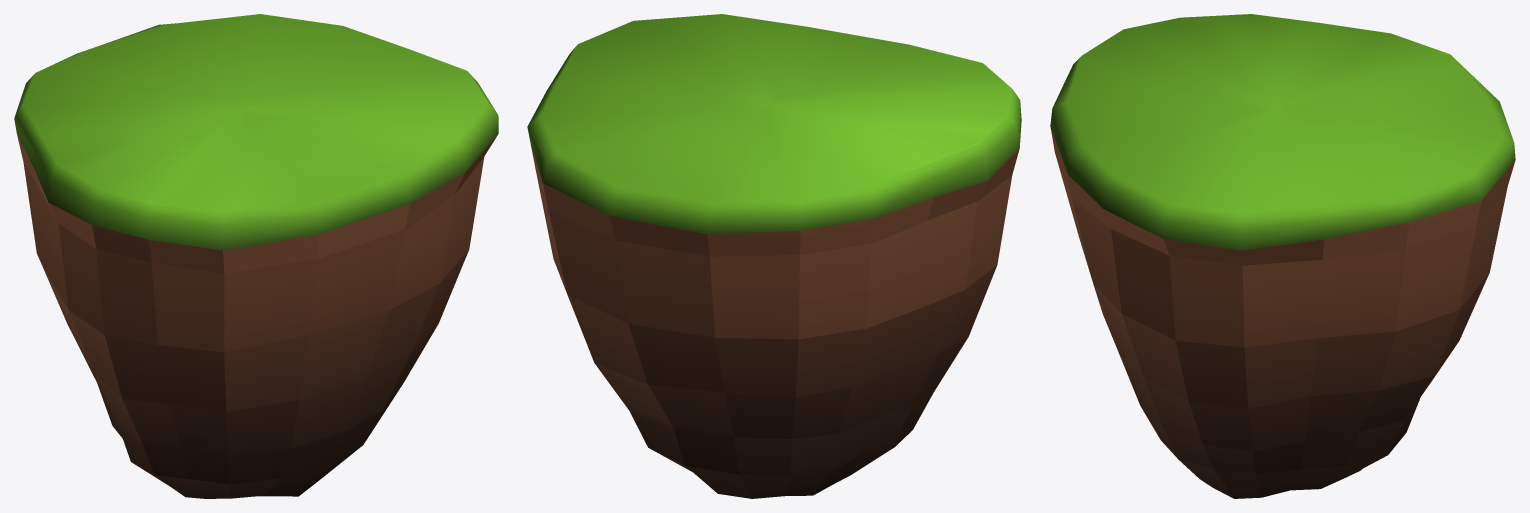
Rendered from Blank Island.fbx.
3 renders of one model, left to right at view 1: azimuth 30°, elevation 25°; view 2: azimuth 150°, elevation 25°; view 3: azimuth 270°, elevation 25°, orthographic.
Visible parts, largest first — view 1: Vert.001, Vert.002; view 2: Vert.001, Vert.002; view 3: Vert.002, Vert.001.
Part boxes in pixels (x1,y1,x2,y2): Vert.001: [17, 134, 497, 498]; Vert.002: [14, 14, 498, 250]; Vert.001: [530, 144, 1019, 498]; Vert.002: [527, 14, 1021, 234]; Vert.002: [1050, 14, 1515, 250]; Vert.001: [1050, 126, 1515, 498].
Size of the model in its own units: 13.81 by 13.22 by 11.99.
Materials: 2 (2 with a texture image).
